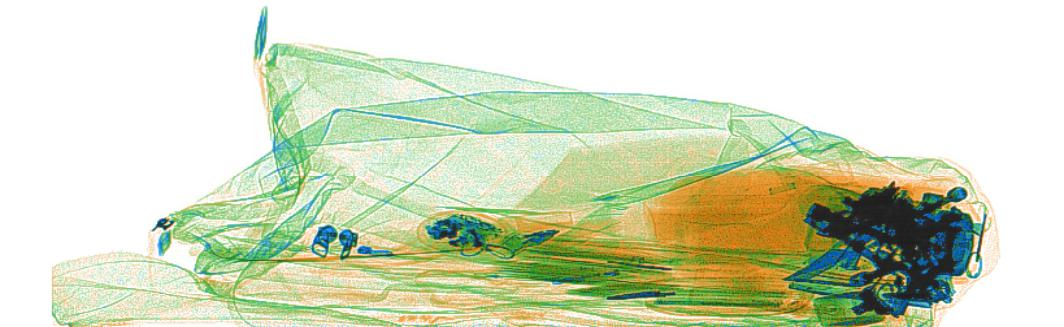lighter: (549, 259, 649, 287)
plasticBottleWithaNozzle: (639, 154, 854, 242)
